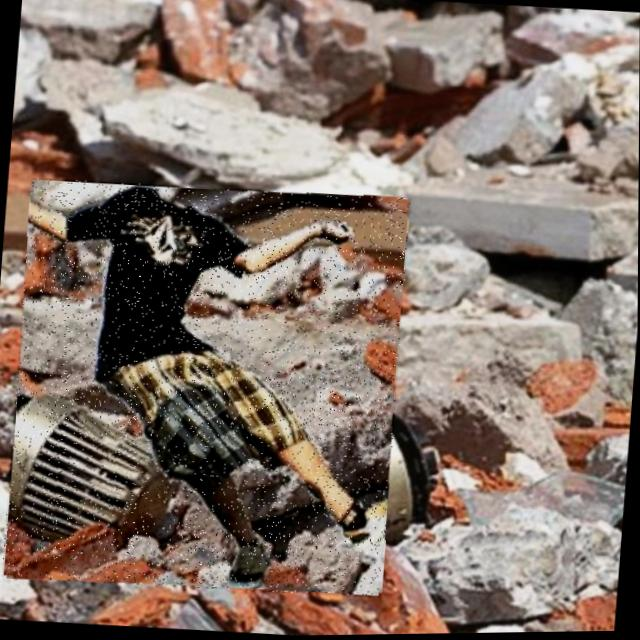Person in Rubble: (2, 173, 411, 603)
